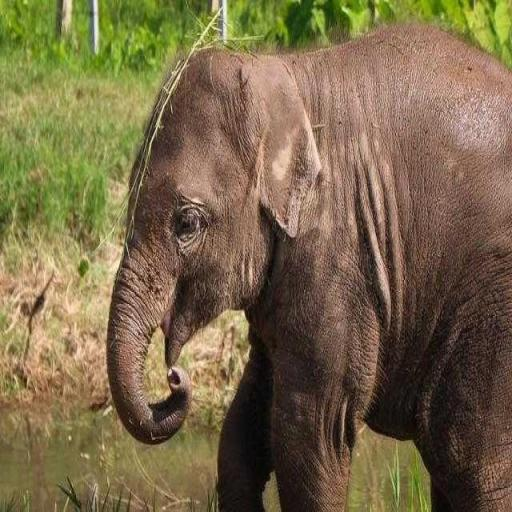Elephant: (105, 22, 511, 511)
